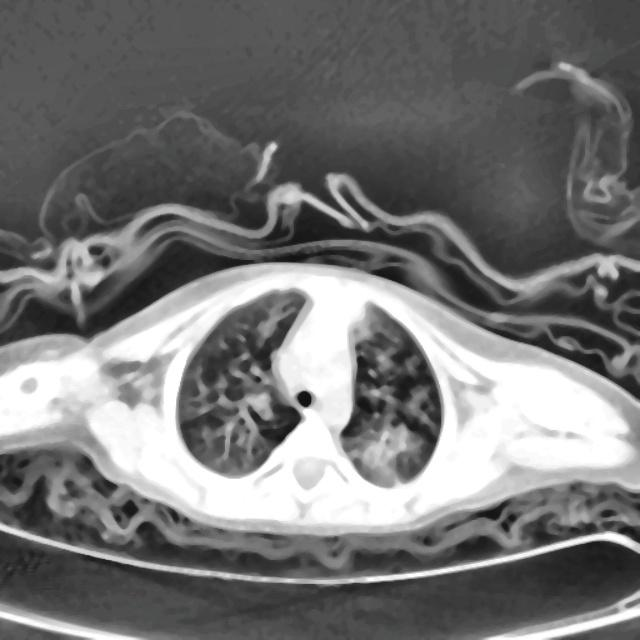covid: (0, 259, 638, 574)
